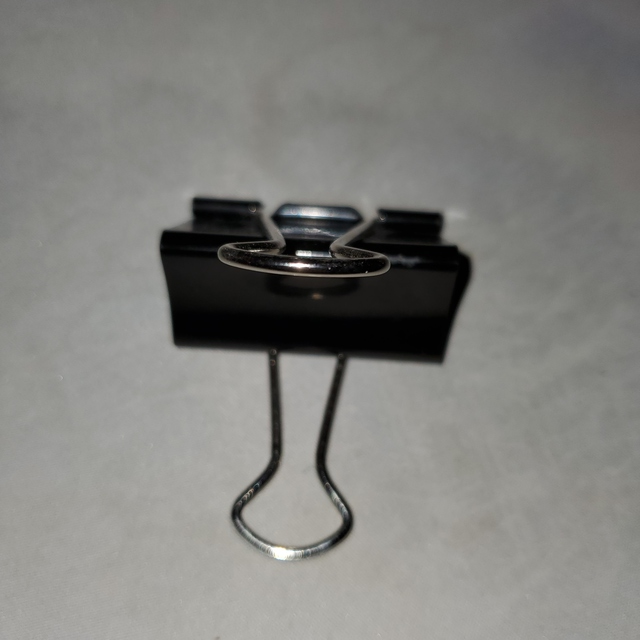clip: (146, 189, 475, 566)
